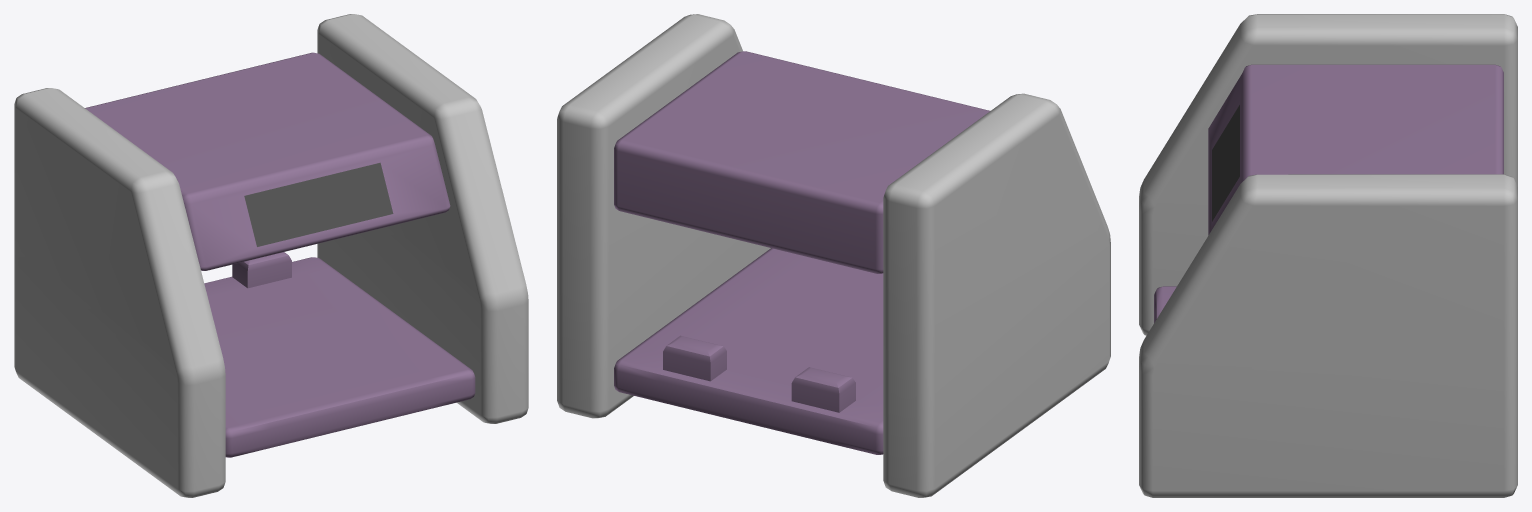
The model's file is MoneySpawner.fbx.
The picture shows the model from 3 angles, left to right: view 1: azimuth 30°, elevation 25°; view 2: azimuth 150°, elevation 25°; view 3: azimuth 270°, elevation 25°; orthographic projection. The views are drawn at different scales.
Parts seen in each view (by area): view 1: pCube4; view 2: pCube4; view 3: pCube4.
Part boxes in pixels (bbox=[...]): pCube4: bbox=[14, 14, 528, 497]; pCube4: bbox=[557, 14, 1110, 497]; pCube4: bbox=[1139, 14, 1517, 497].
Size of the model in its own units: 1.16 by 0.9015 by 1.
